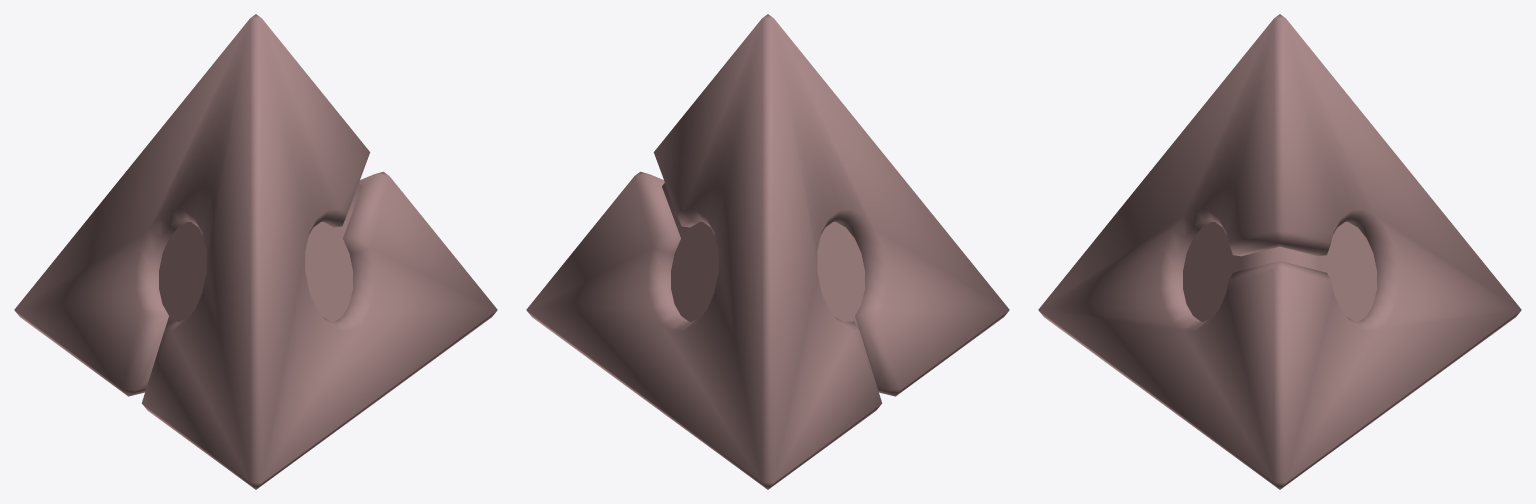
Rendered from Tetrahedron01a.FBX.
The picture shows the model from 3 angles, left to right: view 1: azimuth 30°, elevation 25°; view 2: azimuth 150°, elevation 25°; view 3: azimuth 270°, elevation 25°; orthographic projection.
Parts seen in each view (by area): view 1: Tetrahedron01a; view 2: Tetrahedron01a; view 3: Tetrahedron01a.
Boxes of the visible parts, <box> form: Tetrahedron01a: <box>14,14,497,489</box>; Tetrahedron01a: <box>526,14,1009,489</box>; Tetrahedron01a: <box>1038,14,1521,489</box>.
Bounding box in the file's own units: 40.77 × 38.44 × 47.08.
